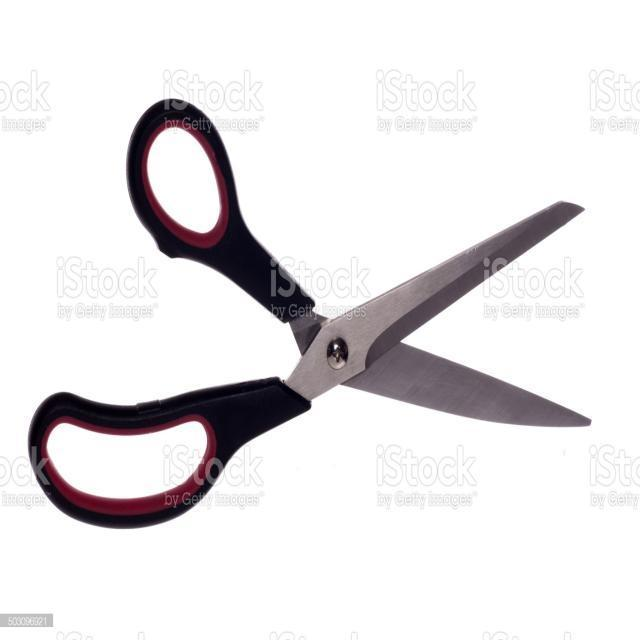scissor: (32, 216, 224, 516)
